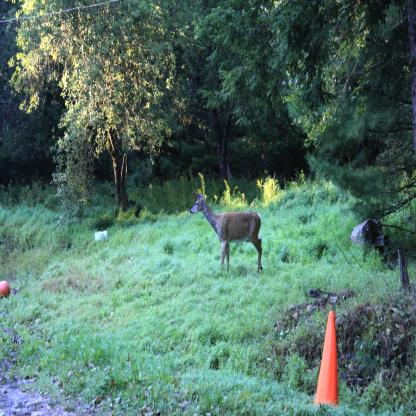Deer: (190, 192, 262, 273)
